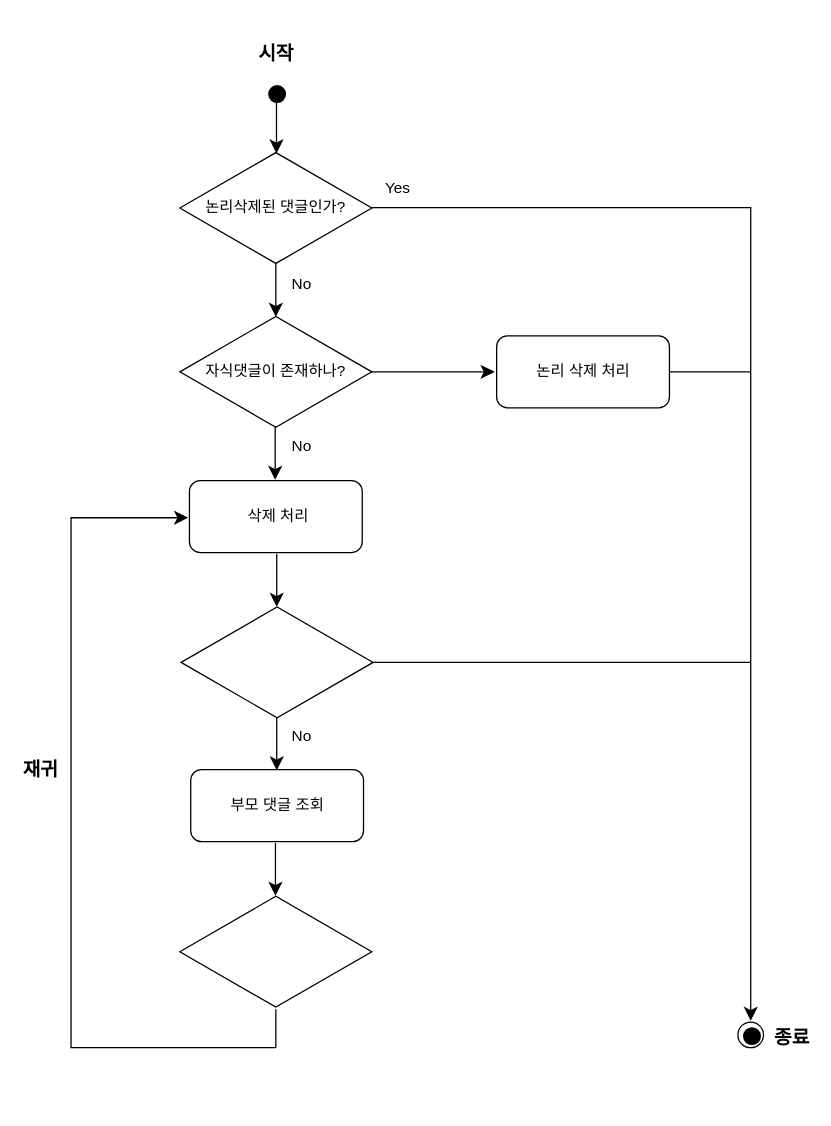
The diagram is 831 pixels wide and 1126 high, and some of its shapes have lost their labels. Here are the shapes that lost their labels. From the top down, the box of each, then its label:
(180, 604, 373, 720): 루트 댓글인가?
(179, 893, 372, 1009): 논리삭제 상태 & 자식 댓글 없음
